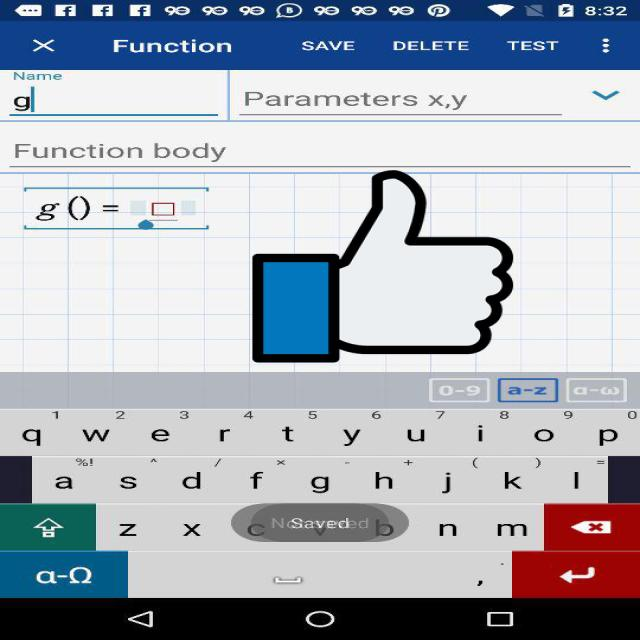privacy zuckering: (253, 166, 513, 367)
